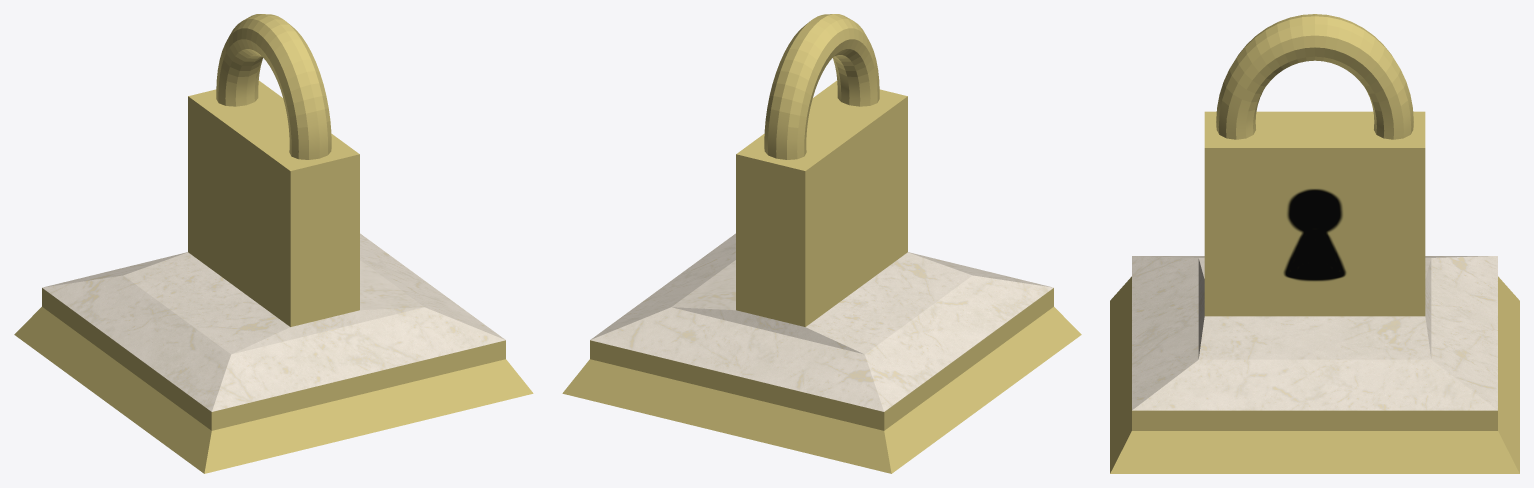
File: lock.glb
The picture shows the model from 3 angles, left to right: view 1: azimuth 30°, elevation 25°; view 2: azimuth 150°, elevation 25°; view 3: azimuth 270°, elevation 25°; orthographic projection. The views are drawn at different scales.
Visible parts, largest first — view 1: Cube.001; view 2: Cube.001; view 3: Cube.001.
Boxes of the visible parts, bbox=[...] form: Cube.001: bbox=[14, 14, 533, 473]; Cube.001: bbox=[562, 14, 1081, 473]; Cube.001: bbox=[1110, 14, 1519, 473].
Bounding box in the file's own units: 1 × 1 × 1.
1 material, 1 textured.
